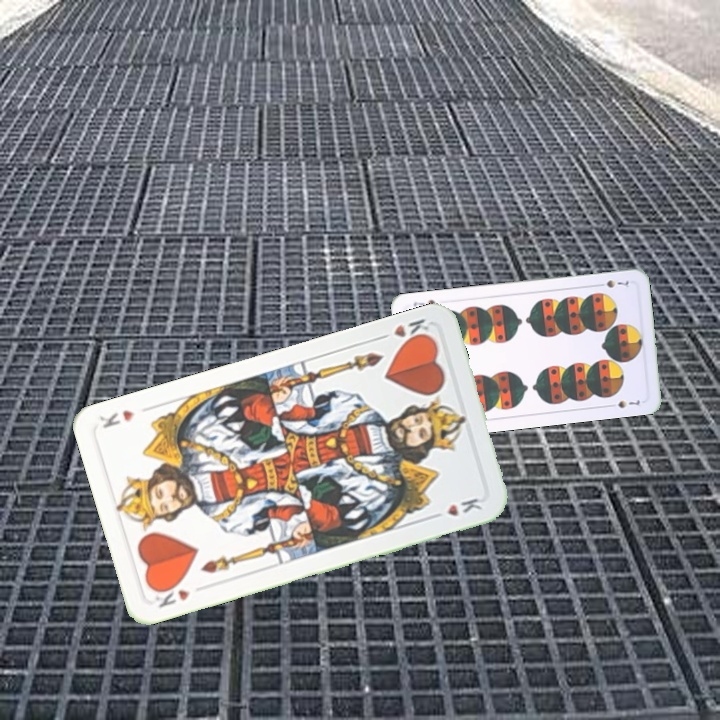HK: (374, 315, 433, 348), (150, 579, 193, 610)
S7: (593, 276, 631, 290)
